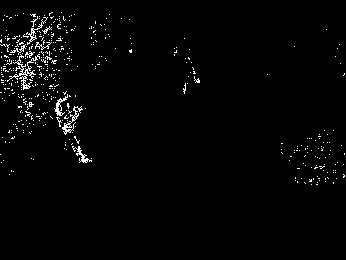person: (54, 93, 93, 163)
